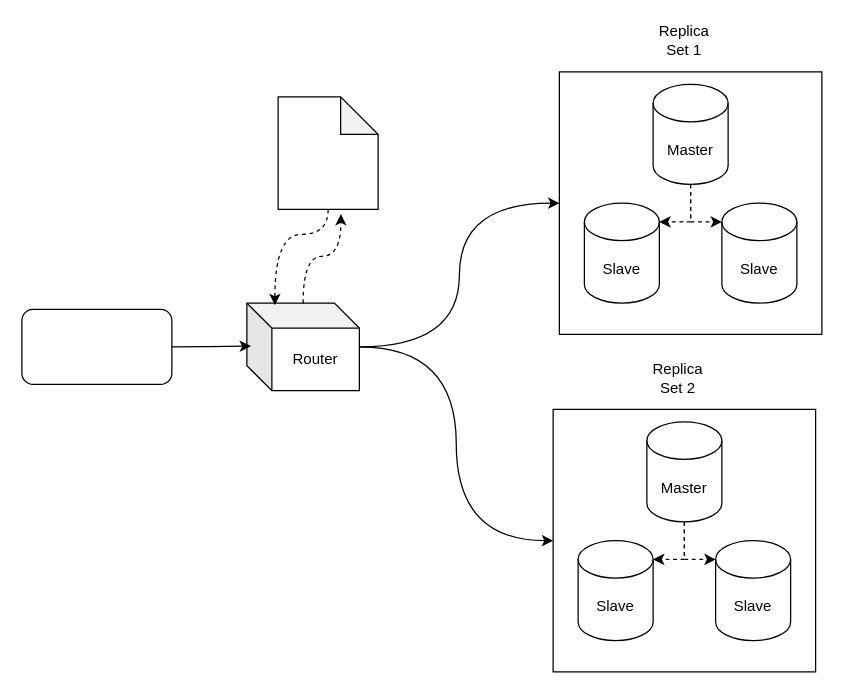
The diagram is 844 pixels wide and 694 high, and some of its shapes have lost their labels. The shapes that lost their labels are listed below. From the top down, each one's centre as x and y in pixels, then its label:
[327,152]: Config Server
[96,346]: pymongo-api
